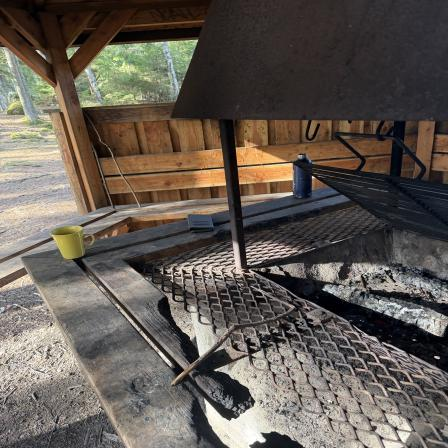blue_bottle: (293, 152, 312, 197)
phone: (187, 212, 216, 233)
yellow_cup: (50, 224, 97, 261)
